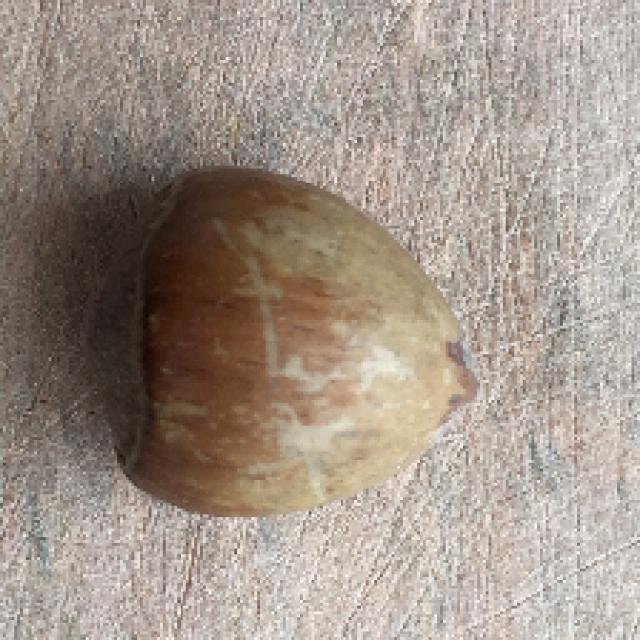qualityHazelnut: (92, 154, 484, 526)
